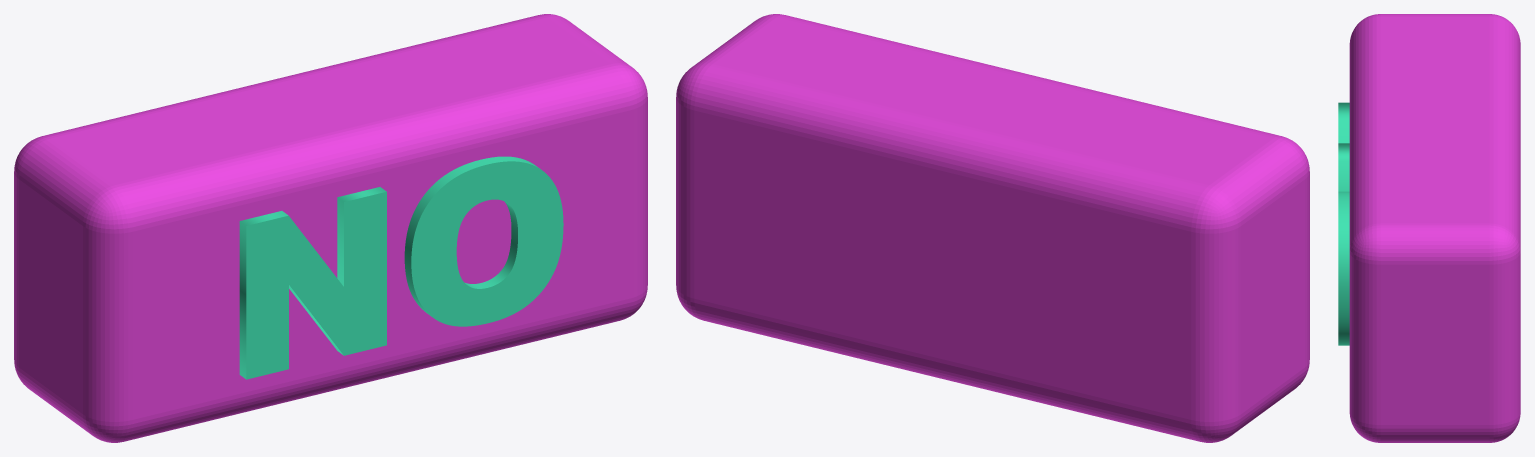
File: nobtn.glb
3 renders of one model, left to right at view 1: azimuth 30°, elevation 25°; view 2: azimuth 150°, elevation 25°; view 3: azimuth 270°, elevation 25°, orthographic. The views are drawn at different scales.
Parts seen in each view (by area): view 1: Cube; view 2: Cube; view 3: Cube.
Part boxes in pixels (box(x1,y1,x2,y2)): Cube: box(14, 14, 647, 442); Cube: box(676, 14, 1309, 442); Cube: box(1338, 14, 1520, 442).
Size of the model in its own units: 6.38 by 2.77 by 2.11.
